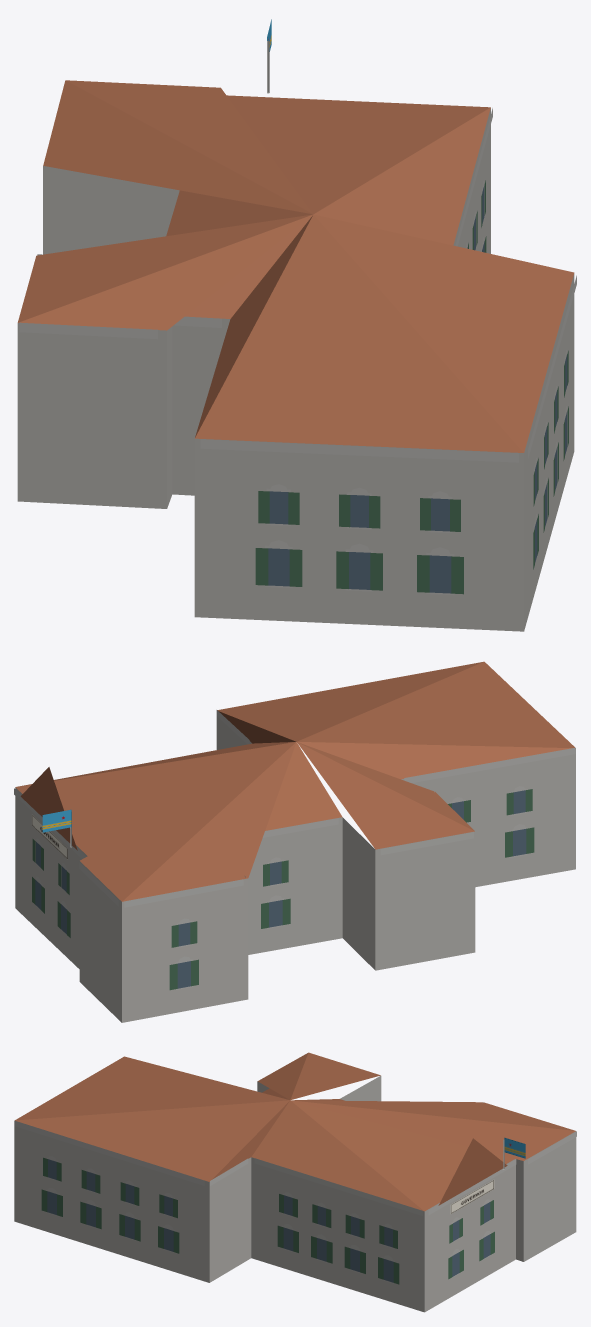
File: governor.glb
3 views of the same model, one above another, from view 1: azimuth 30°, elevation 25°; view 2: azimuth 150°, elevation 25°; view 3: azimuth 270°, elevation 25° (orthographic). The views are drawn at different scales.
Parts seen in each view (by area): view 1: governor_lod0; view 2: governor_lod0; view 3: governor_lod0.
Boxes of the visible parts, x1,y1,x2,y2 form: governor_lod0: [17, 19, 576, 631]; governor_lod0: [14, 661, 575, 1022]; governor_lod0: [14, 1052, 576, 1312].
Size of what is drawn, in the model's own units: 24.36 by 10.6 by 36.37.
2 materials, 1 textured.
